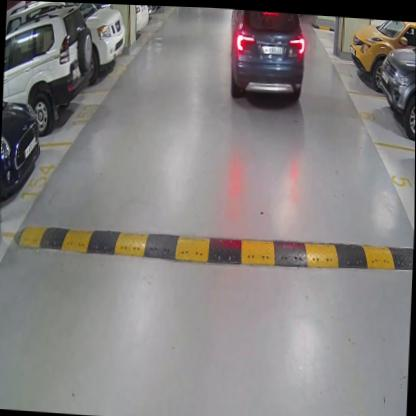np: (261, 40, 283, 54)
